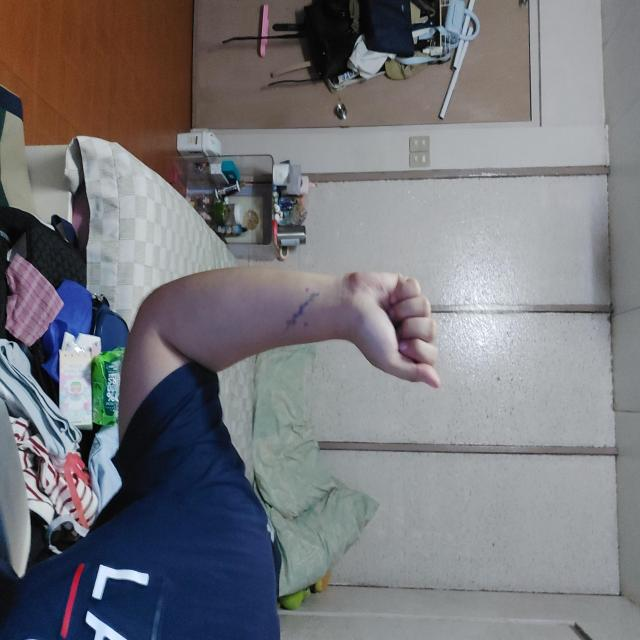A: (272, 199, 388, 297)
